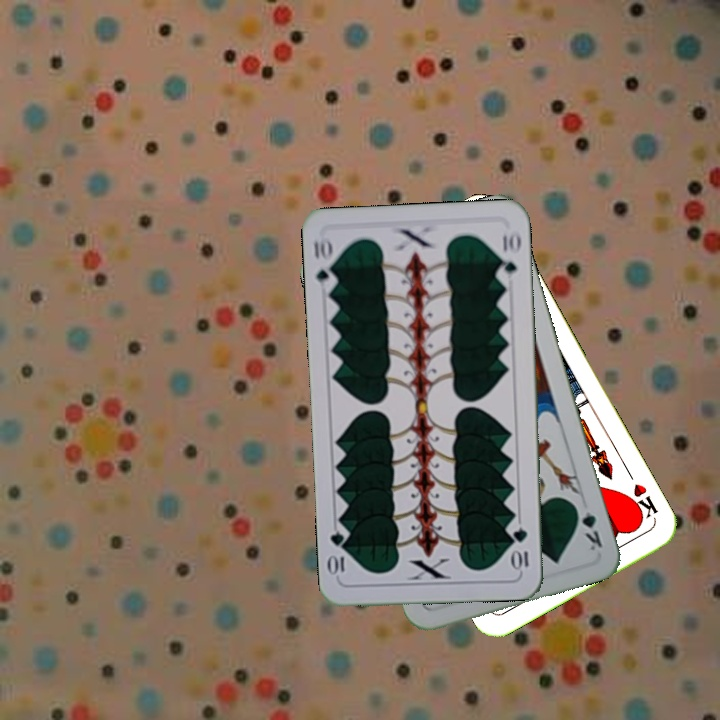G10: (309, 233, 339, 292), (509, 524, 531, 573)
GK: (570, 499, 605, 554)
HK: (624, 479, 660, 524)
